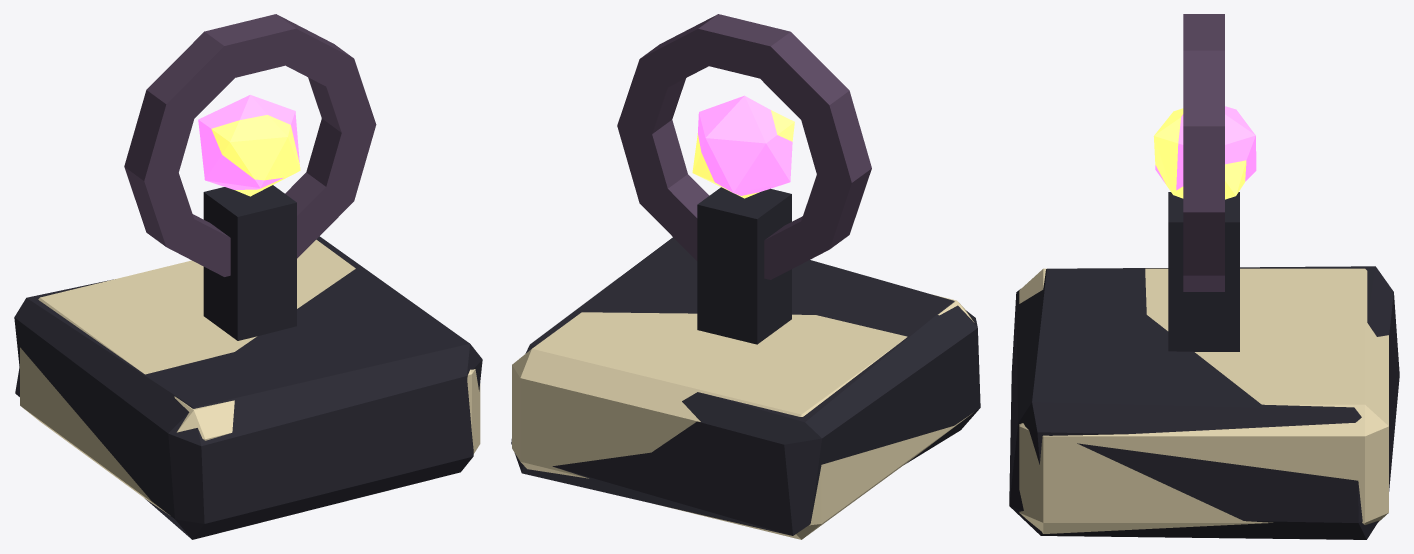
File: conduit.glb
3 renders of one model, left to right at view 1: azimuth 30°, elevation 25°; view 2: azimuth 150°, elevation 25°; view 3: azimuth 270°, elevation 25°, orthographic. The views are drawn at different scales.
Visible parts, largest first — view 1: conduit_corrupted, conduit_restored; view 2: conduit_corrupted, conduit_restored; view 3: conduit_corrupted, conduit_restored.
Part boxes in pixels (left/top/right/bottom): conduit_corrupted: left=14, top=14, right=482, bottom=539; conduit_restored: left=20, top=115, right=480, bottom=514; conduit_corrupted: left=511, top=14, right=980, bottom=535; conduit_restored: left=512, top=110, right=974, bottom=539; conduit_corrupted: left=1009, top=14, right=1399, bottom=539; conduit_restored: left=1019, top=108, right=1388, bottom=533.
Bounding box in the file's own units: 0.6341 × 0.8118 × 0.6552.
